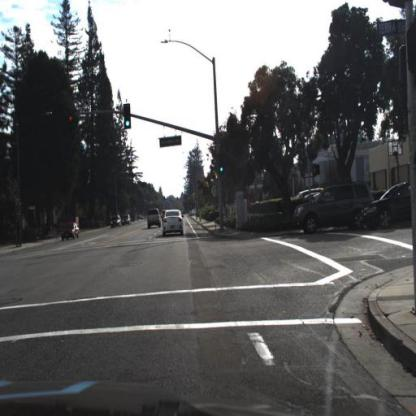car: (287, 182, 376, 238), (293, 180, 375, 236), (360, 181, 416, 234), (163, 210, 185, 238), (291, 183, 324, 200), (61, 221, 80, 242), (63, 223, 81, 243), (148, 205, 162, 227), (110, 212, 123, 228), (111, 215, 123, 229), (159, 206, 170, 220), (124, 216, 133, 229), (122, 214, 131, 226)
trafficLight-Green: (123, 103, 132, 131), (218, 152, 226, 176), (217, 158, 225, 180), (124, 104, 131, 127)
trafficLight-RedLeft: (68, 111, 75, 136), (68, 113, 76, 134)
